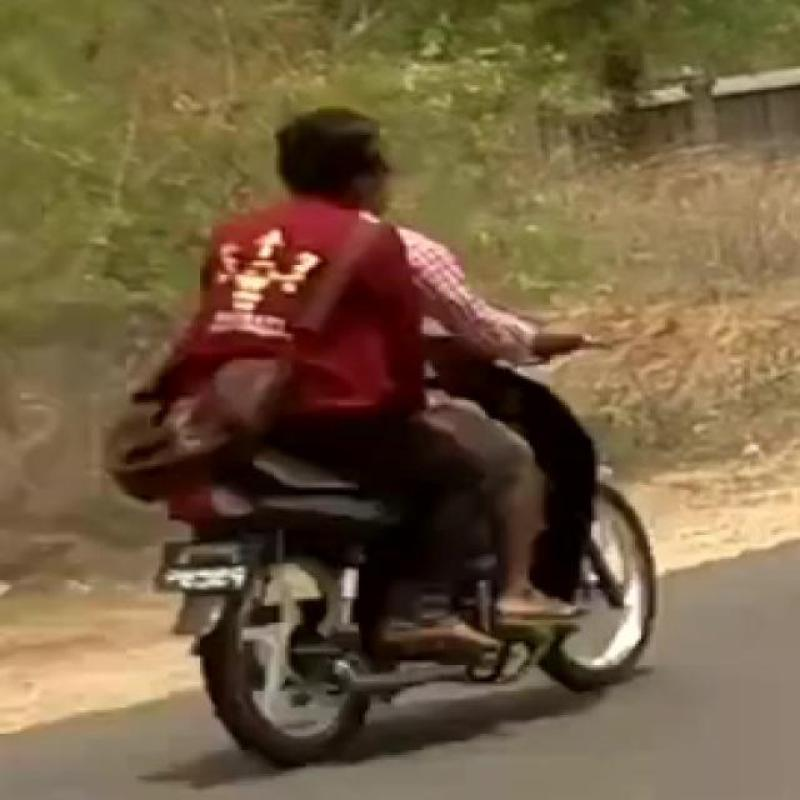nohelmet: (252, 96, 414, 270)
